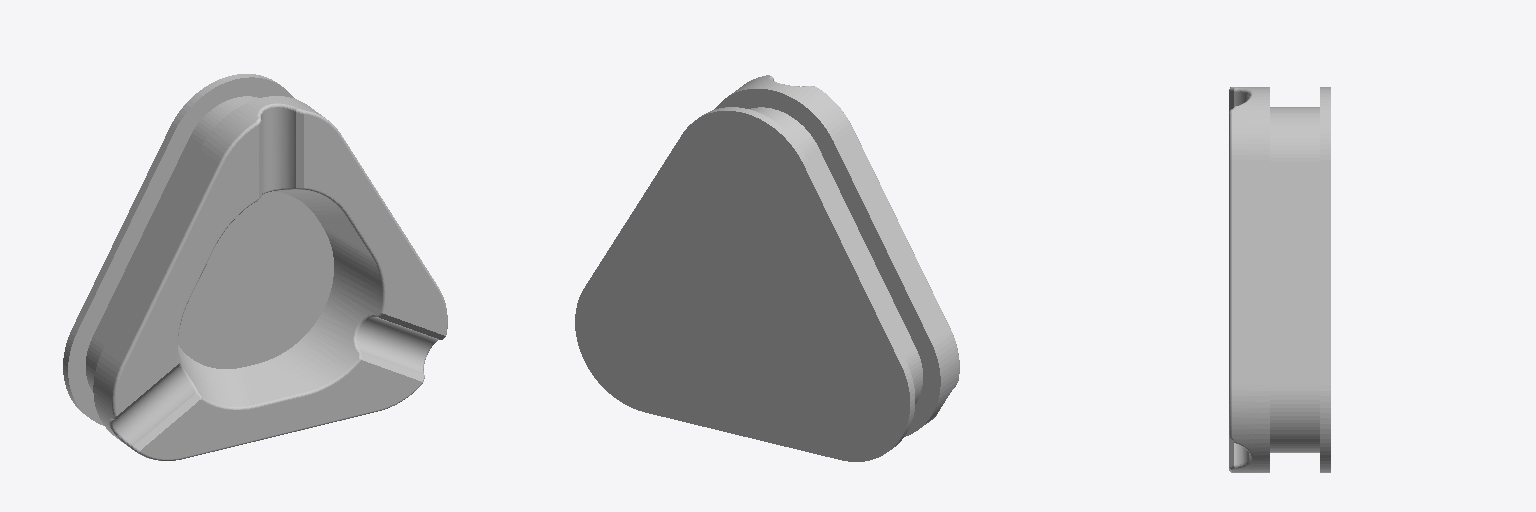
The model's file is 烟灰缸.exported.obj.
3 renders of one model, left to right at view 1: azimuth 30°, elevation 25°; view 2: azimuth 150°, elevation 25°; view 3: azimuth 270°, elevation 25°, orthographic.
Parts seen in each view (by area): view 1: ____01_(2); view 2: ____01_(2); view 3: ____01_(2).
Boxes of the visible parts, <box> form: ____01_(2): <box>63,74,447,460</box>; ____01_(2): <box>575,75,959,461</box>; ____01_(2): <box>1229,87,1330,472</box>.
Size of the model in its own units: 0.0383 by 0.0353 by 0.01.